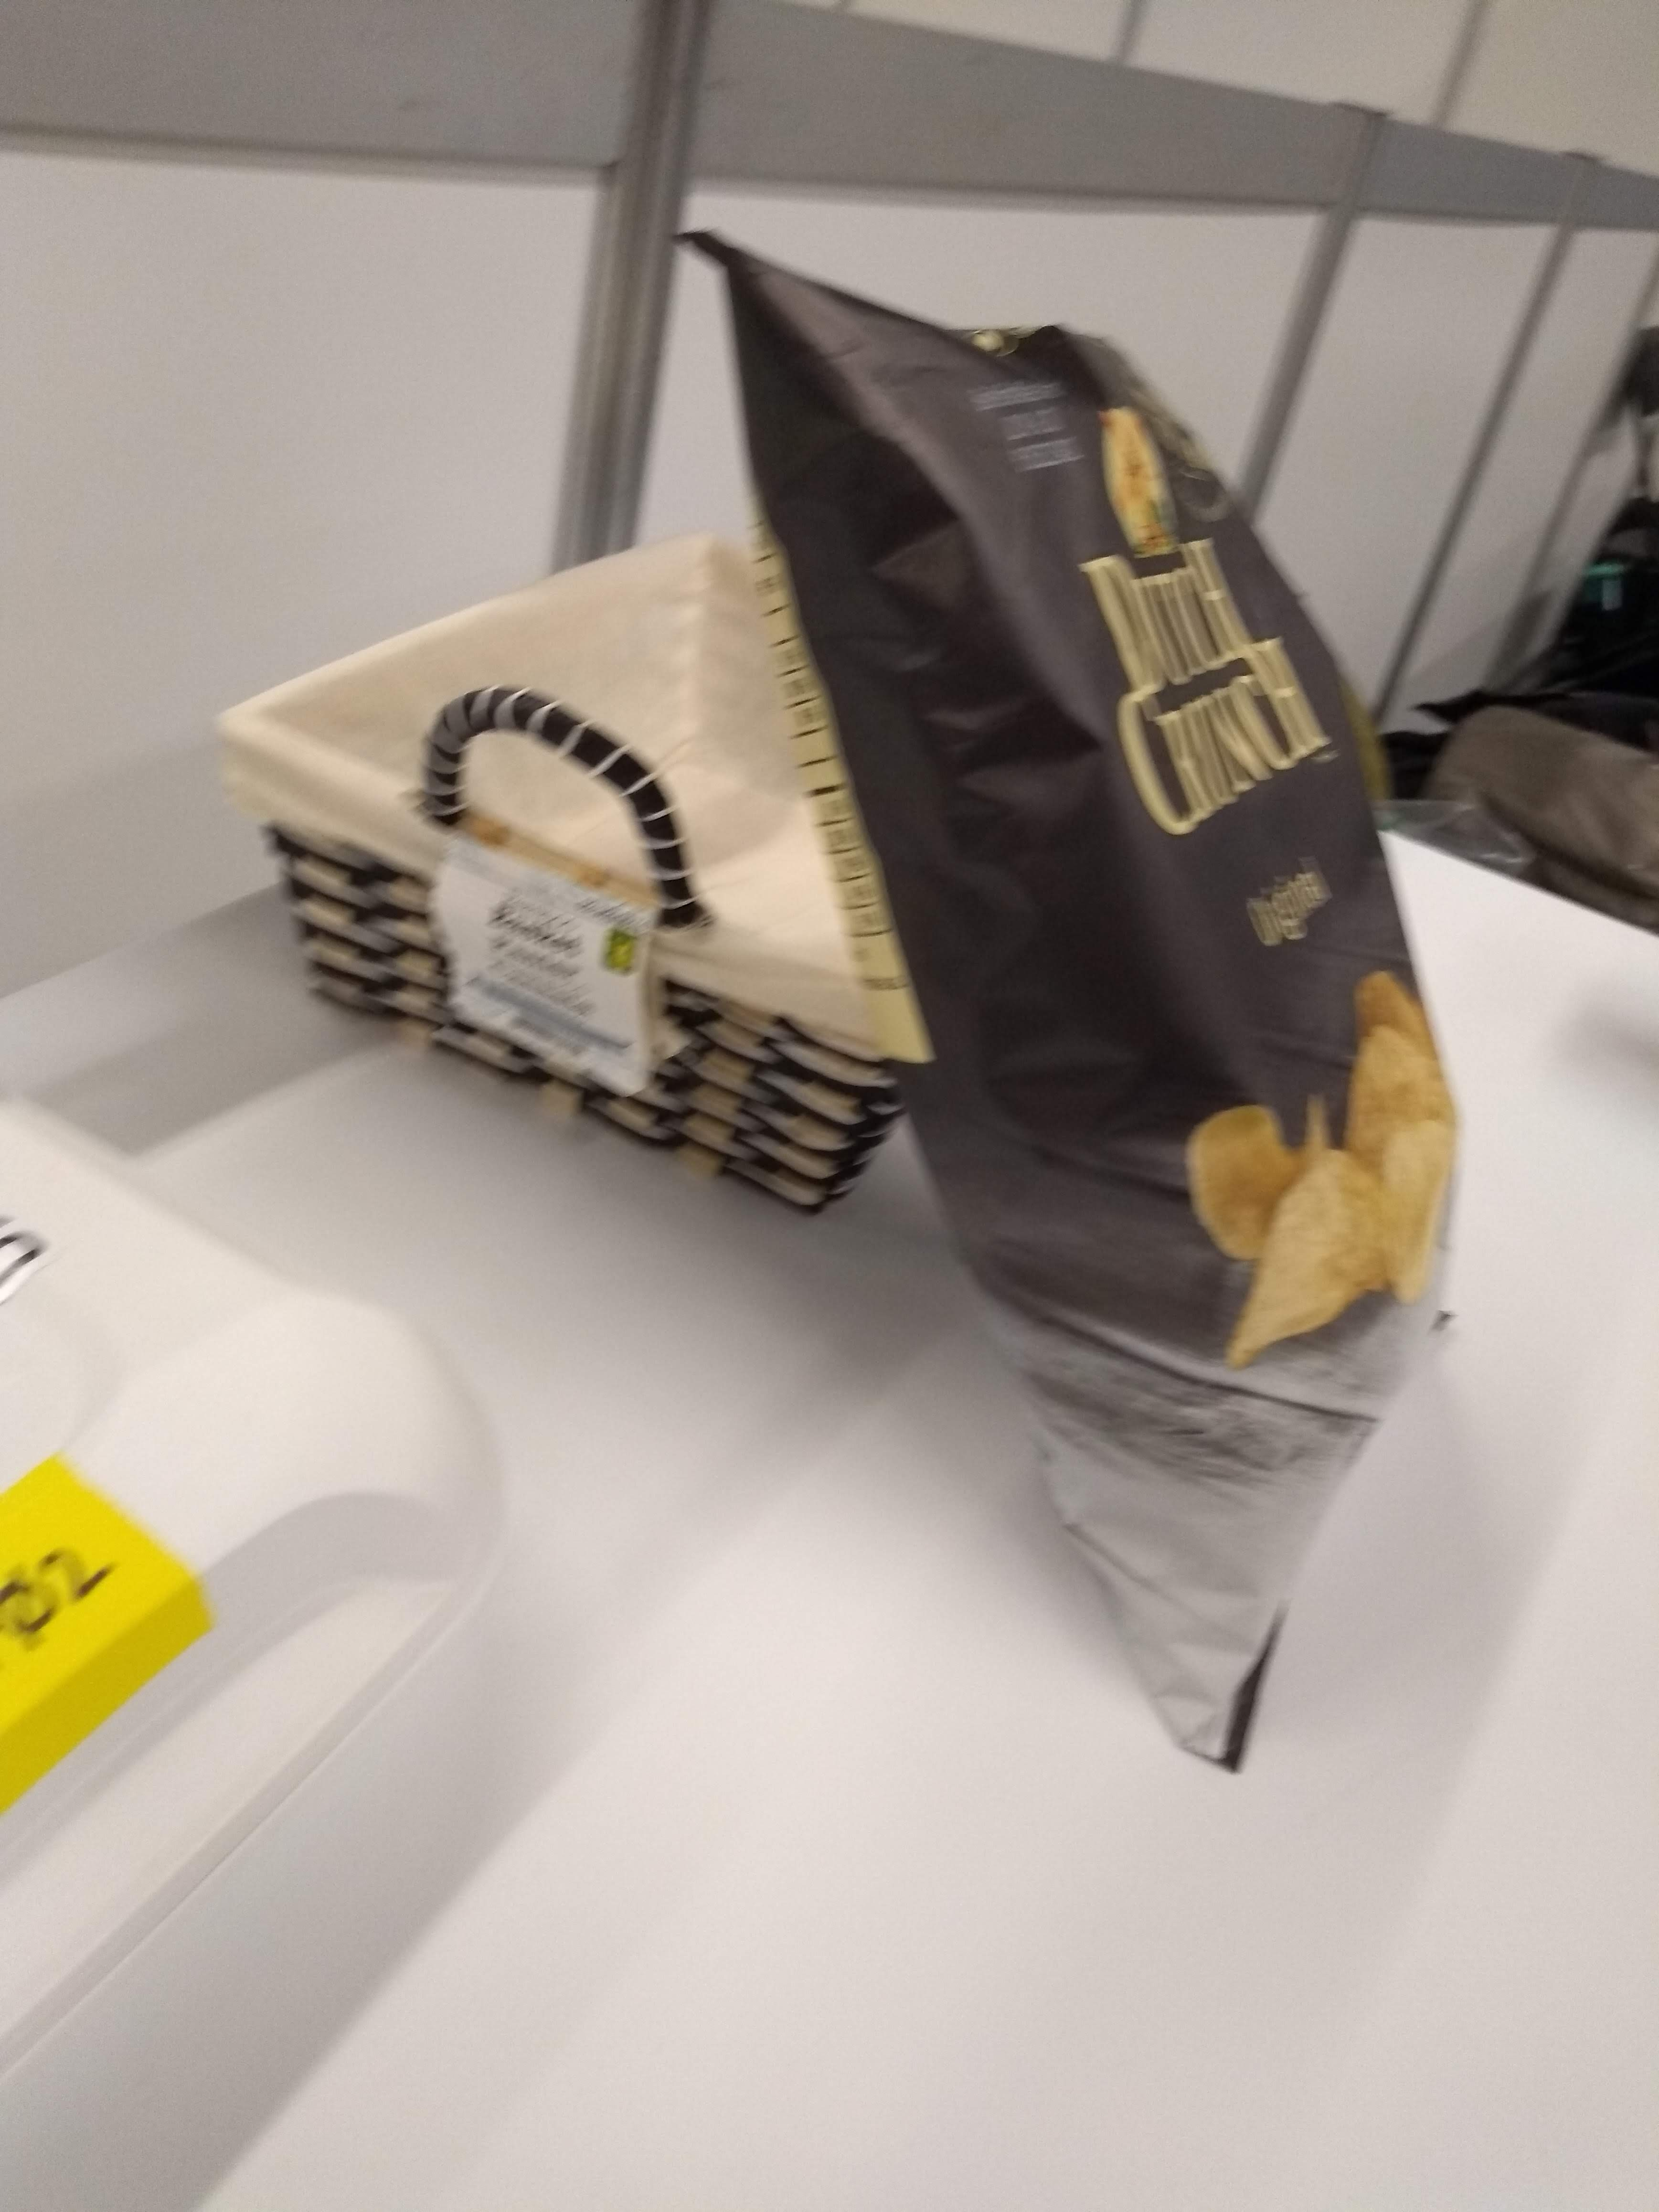potato_chips: (664, 193, 1483, 1799)
